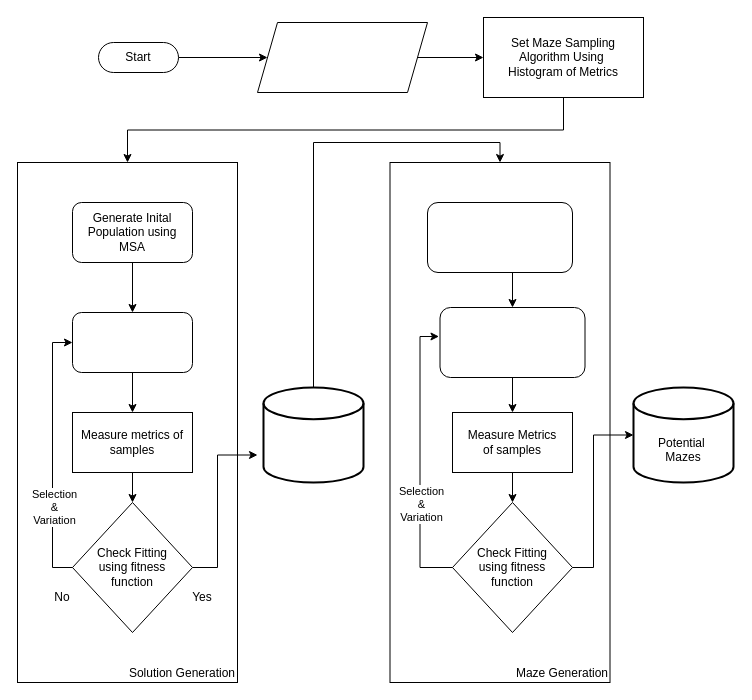
This 752x700 diagram has some shape labels left out. The shapes that lost their labels are listed below. From the top down, each one's centre as x and y in pixels, then its label:
At [342,57]: "Get Metrics Vector (M)".
At [499,237]: "Generate Mazes using Solution Paths and adding DE Trees".
At [132,342]: "Population of sample solutions".
At [512,342]: "Population of Sample Mazes".
At [313,434]: "Potential Solution Paths".
